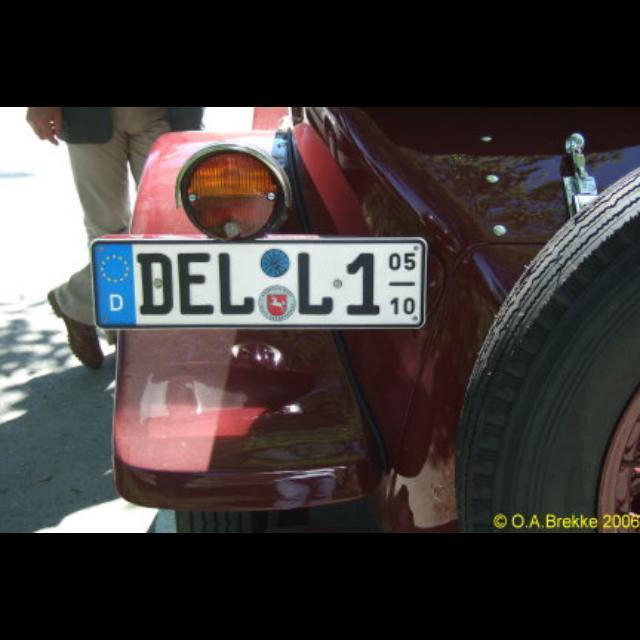license-plates: (91, 237, 428, 330)
